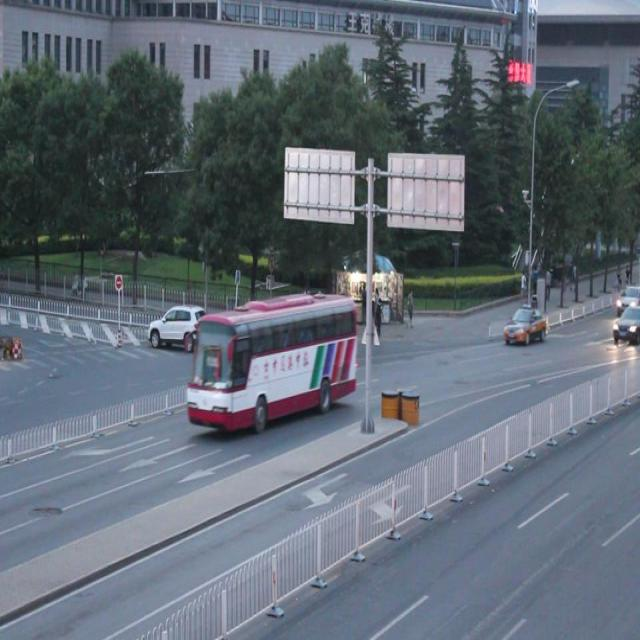car: (149, 307, 215, 358), (503, 304, 546, 345), (608, 306, 640, 341), (614, 281, 640, 312)
van: (187, 291, 357, 428)
